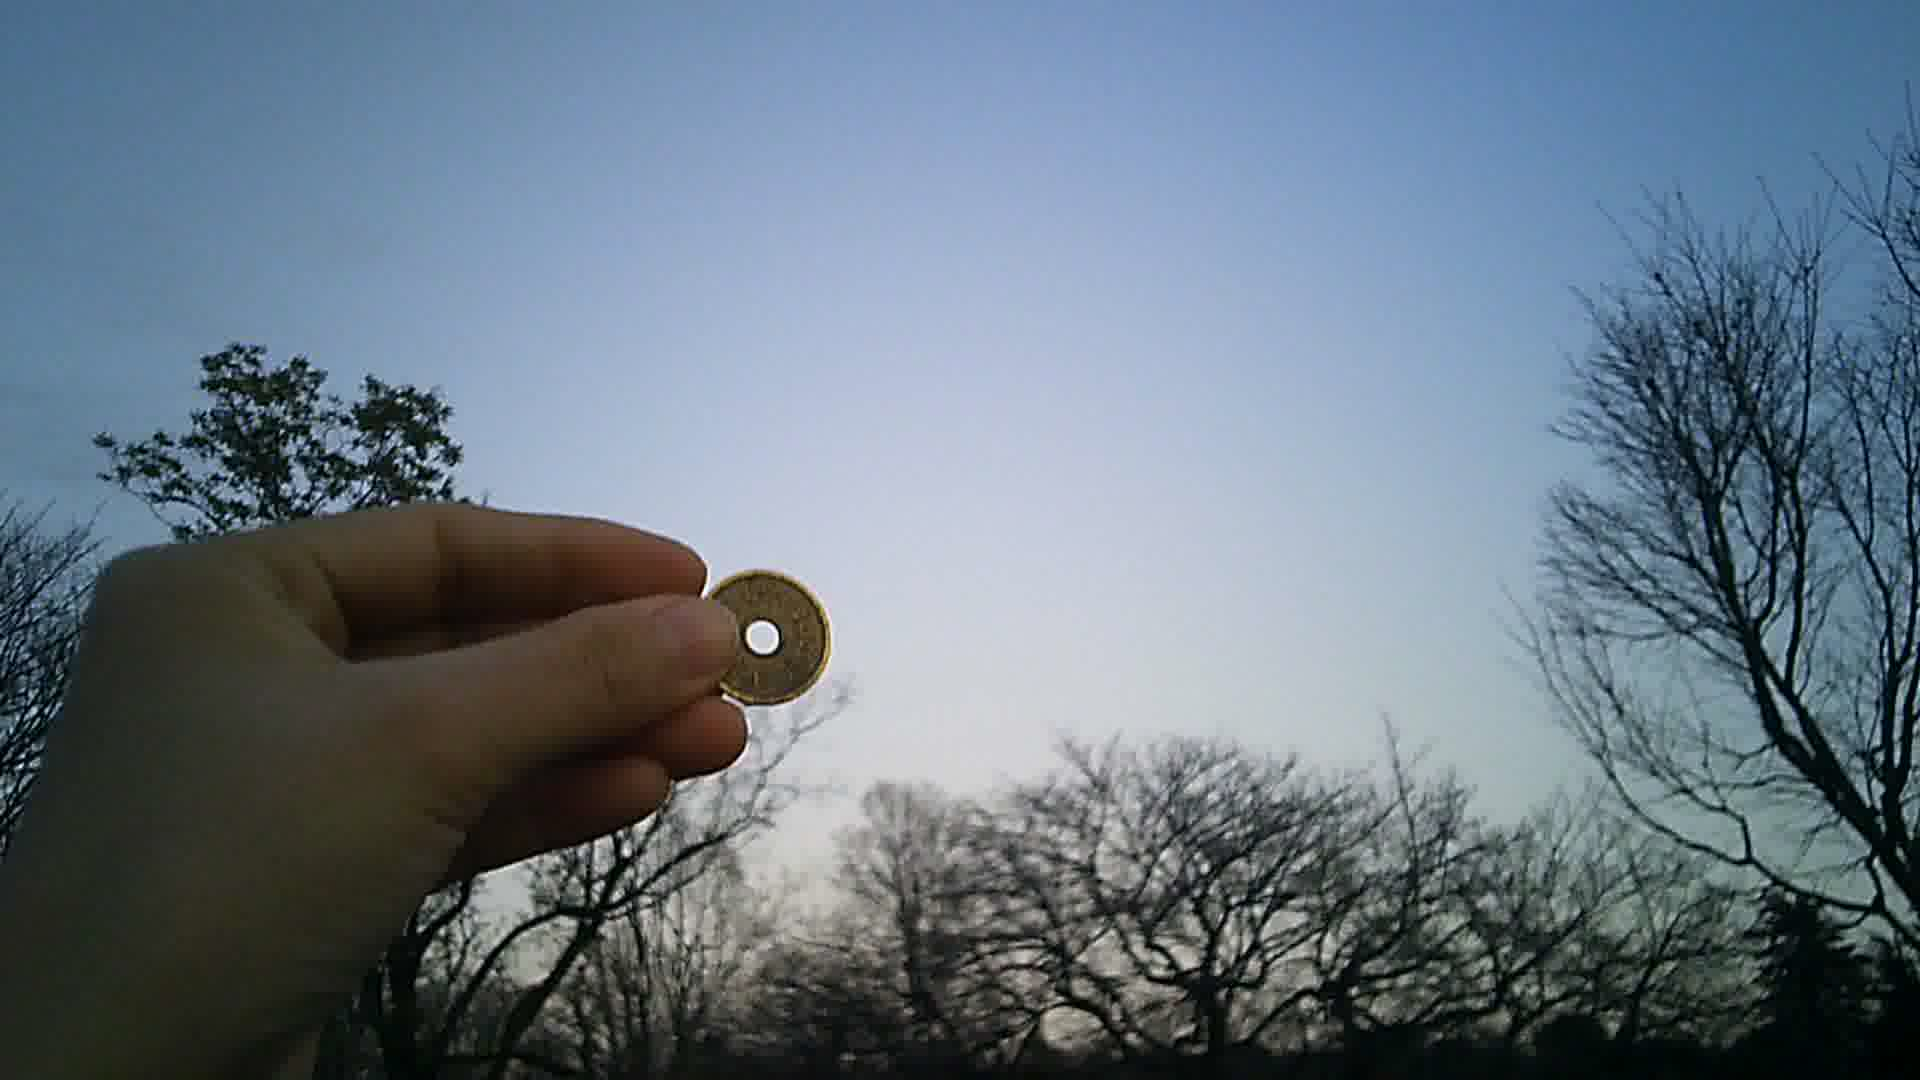5 Yen: (700, 574, 835, 712)
